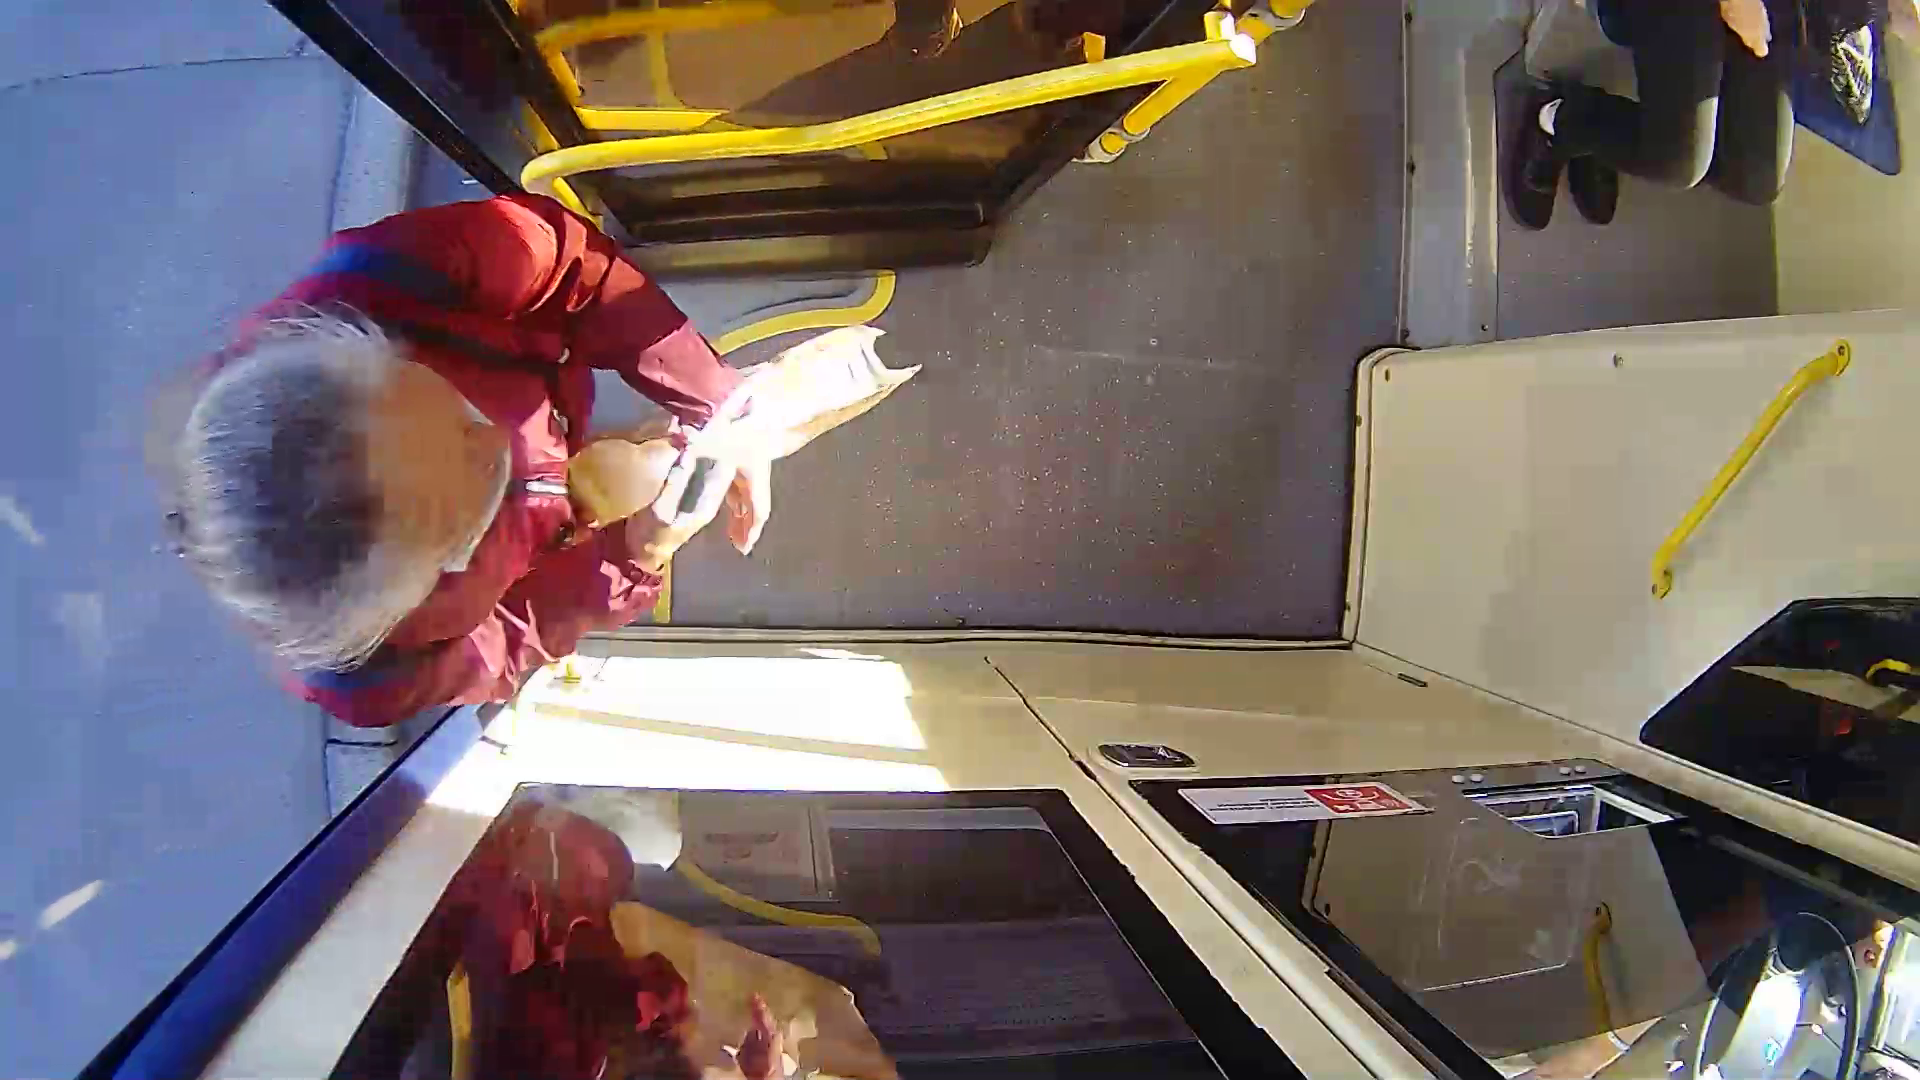person: (238, 200, 915, 676)
